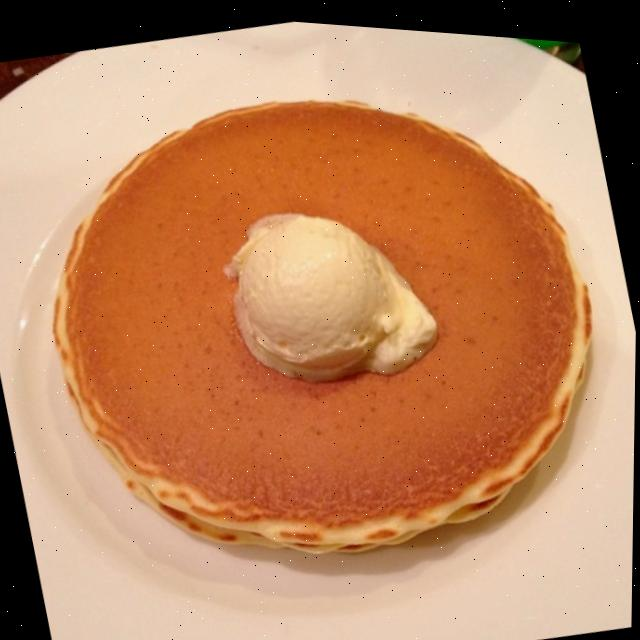蛋糕甜品: (27, 2, 625, 640)
